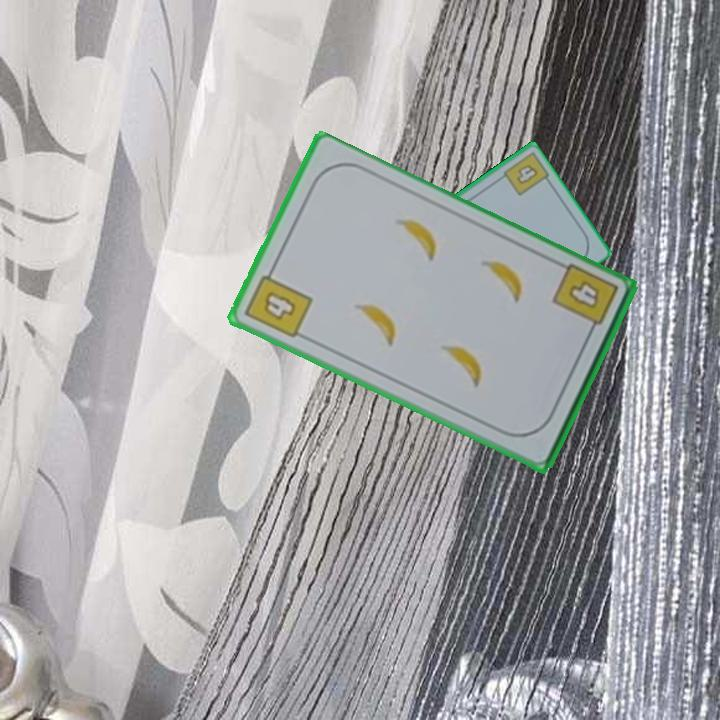4b: (241, 263, 316, 342), (548, 260, 621, 341), (513, 160, 541, 187)
